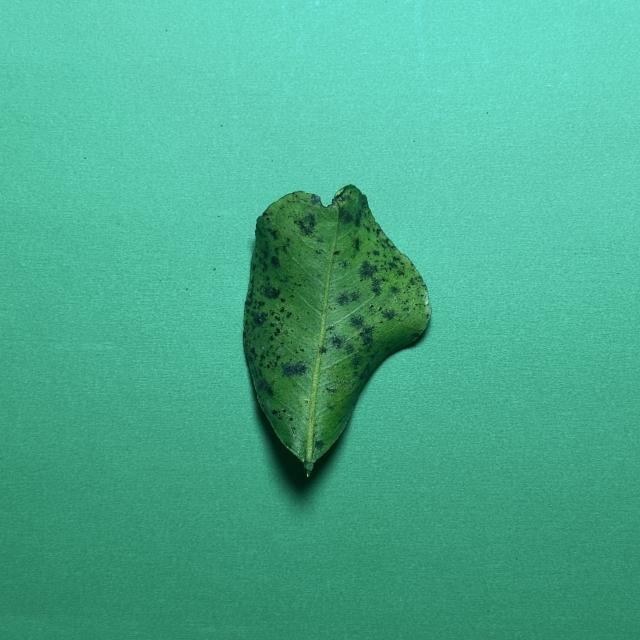sooty_mold: (243, 185, 431, 471)
